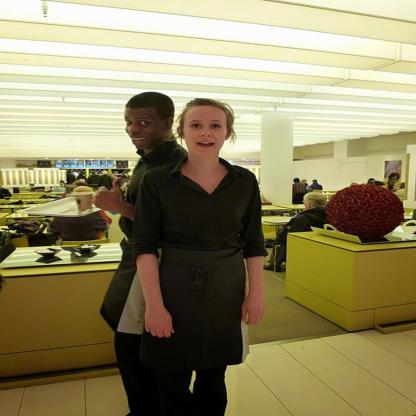face: (185, 106, 231, 158), (125, 107, 165, 150)
